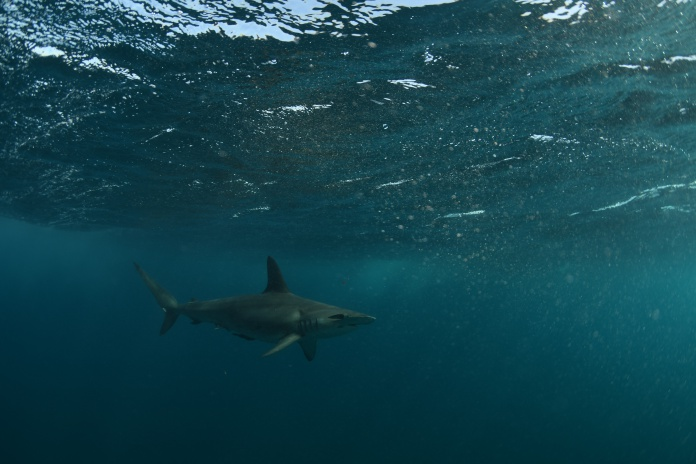Hammer: (115, 242, 373, 375)
